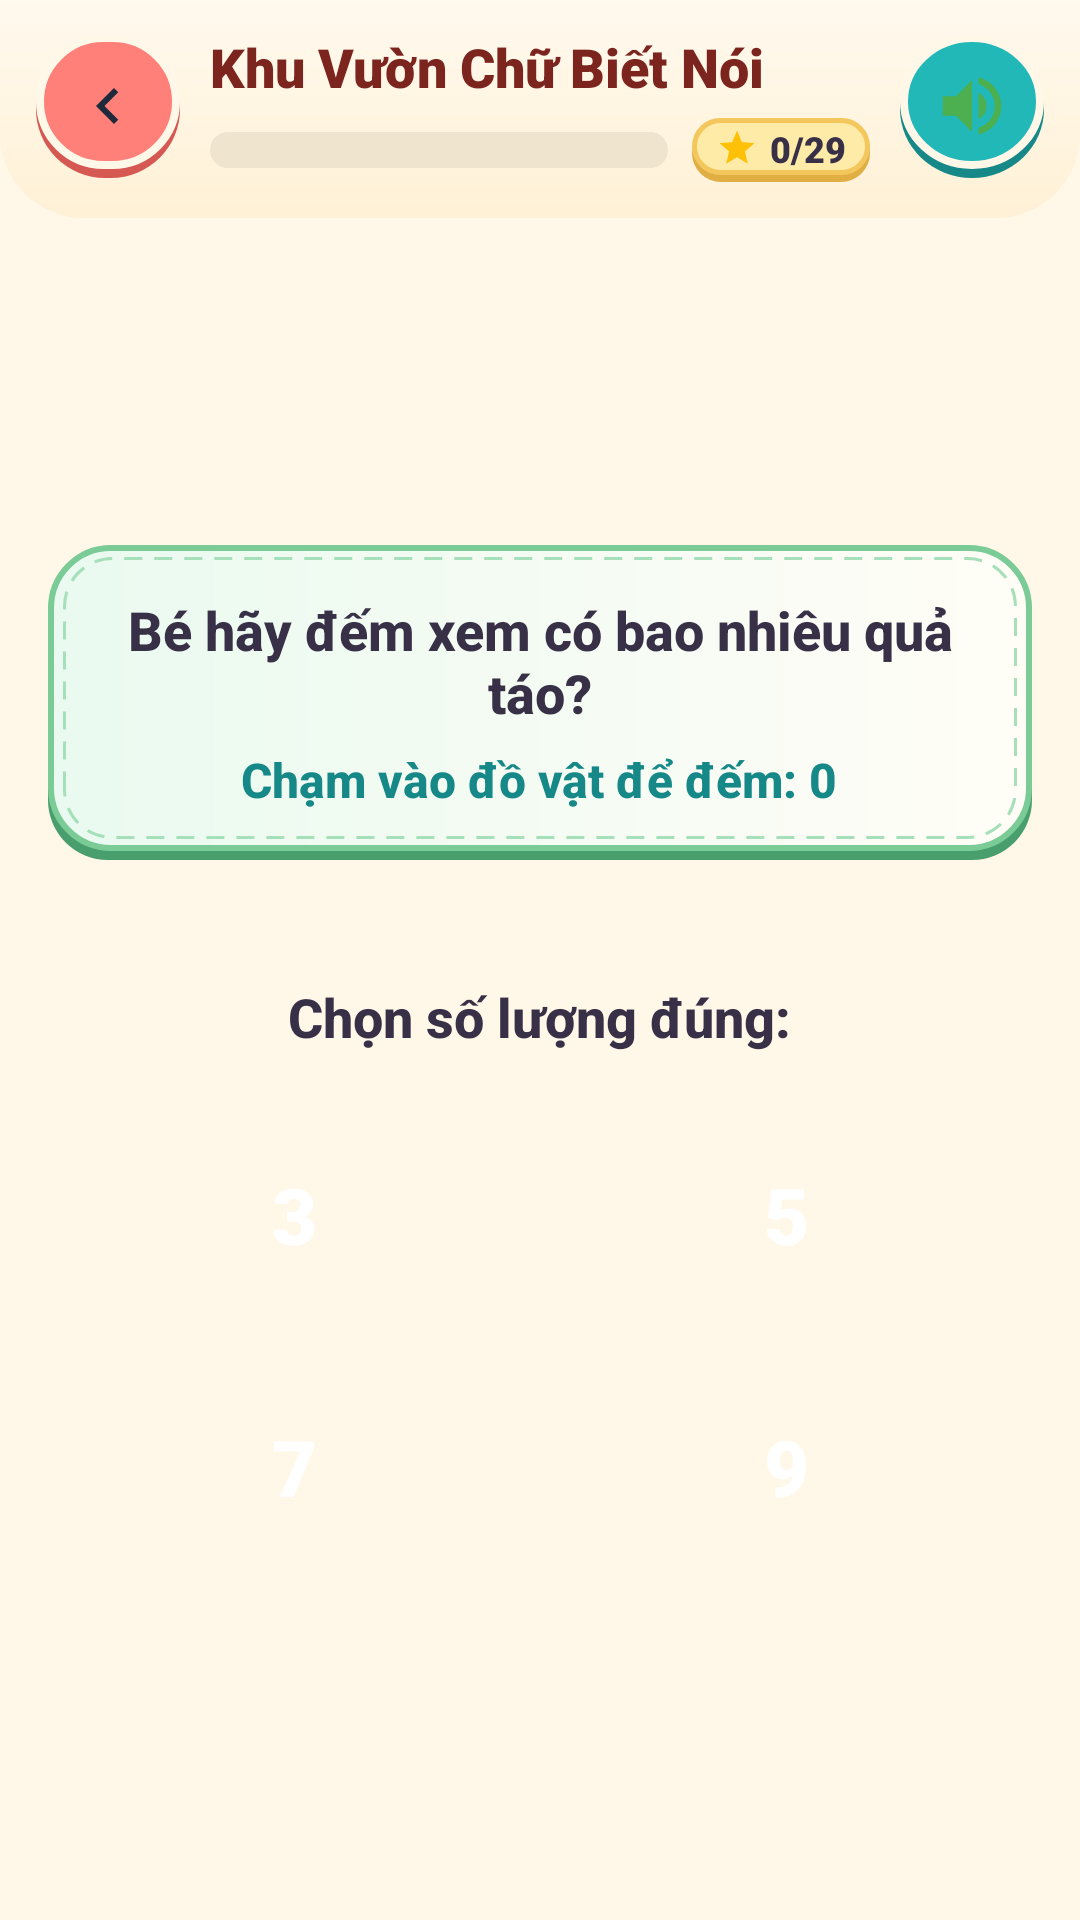

Named icons in this screenshot (1080 × 1920) and their centers, (x,y):
Bật hoặc tắt âm thanh ứng dụng: (972,110)
Quay lại: (108,110)
star: (737,147)
